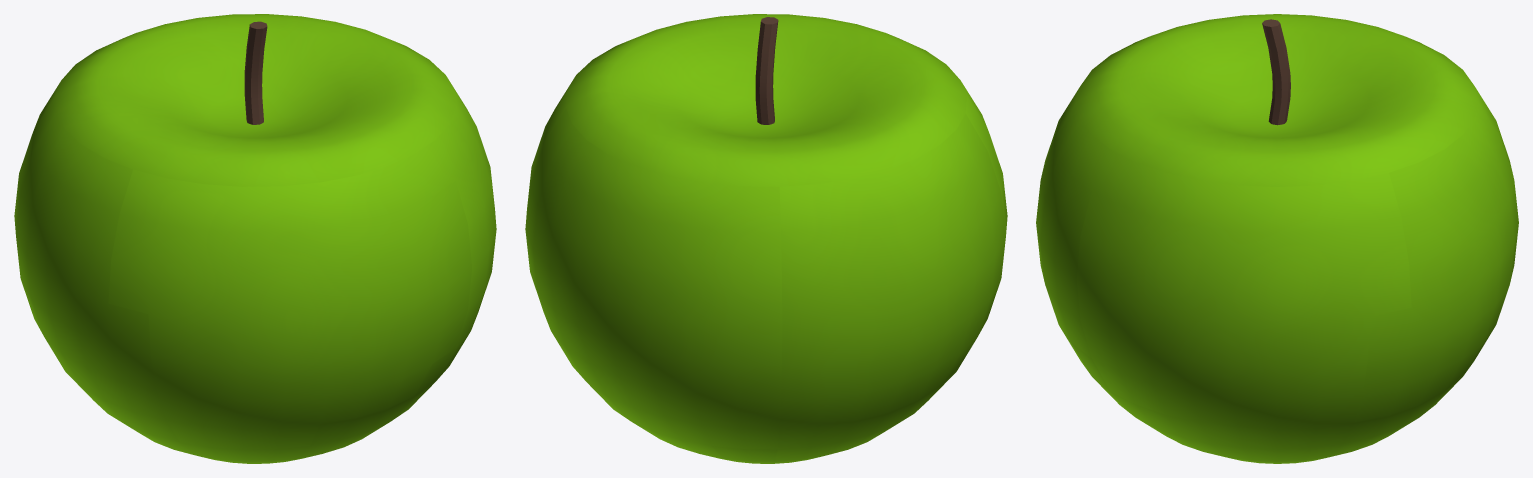
Rendered from green_apple.obj.
3 renders of one model, left to right at view 1: azimuth 30°, elevation 25°; view 2: azimuth 150°, elevation 25°; view 3: azimuth 270°, elevation 25°, orthographic.
Parts seen in each view (by area): view 1: green_apple; view 2: green_apple; view 3: green_apple.
Boxes of the visible parts, <box> form: green_apple: <box>14,14,496,463</box>; green_apple: <box>525,14,1007,463</box>; green_apple: <box>1036,14,1518,463</box>.
Bounding box in the file's own units: 0.06 × 0.0574 × 0.06.
Materials: 2 (2 with a texture image).
